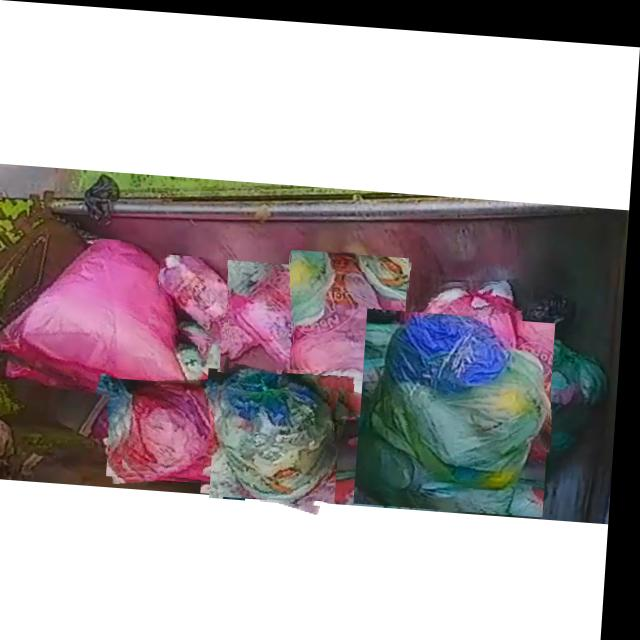general_trashbag: (362, 308, 554, 504), (219, 364, 337, 498), (523, 332, 610, 443)
other_trashbag: (0, 238, 199, 405), (294, 248, 406, 412), (231, 262, 327, 373), (125, 379, 230, 475), (413, 275, 525, 345), (162, 253, 255, 337)
